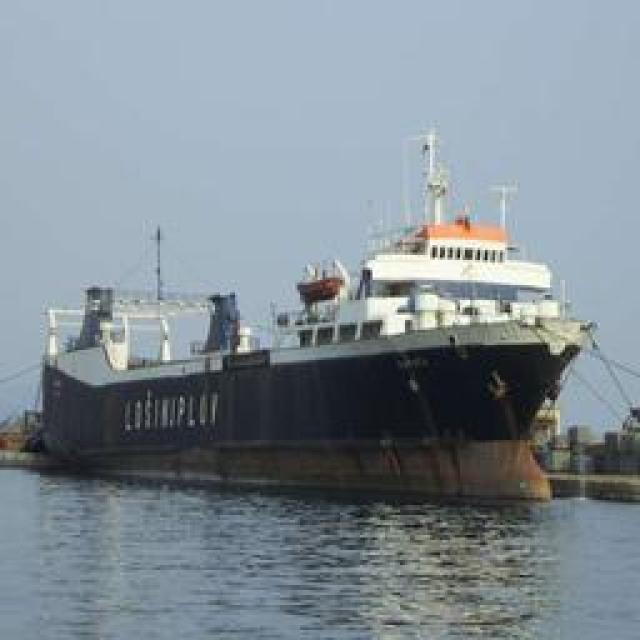ship2: (0, 131, 596, 506)
